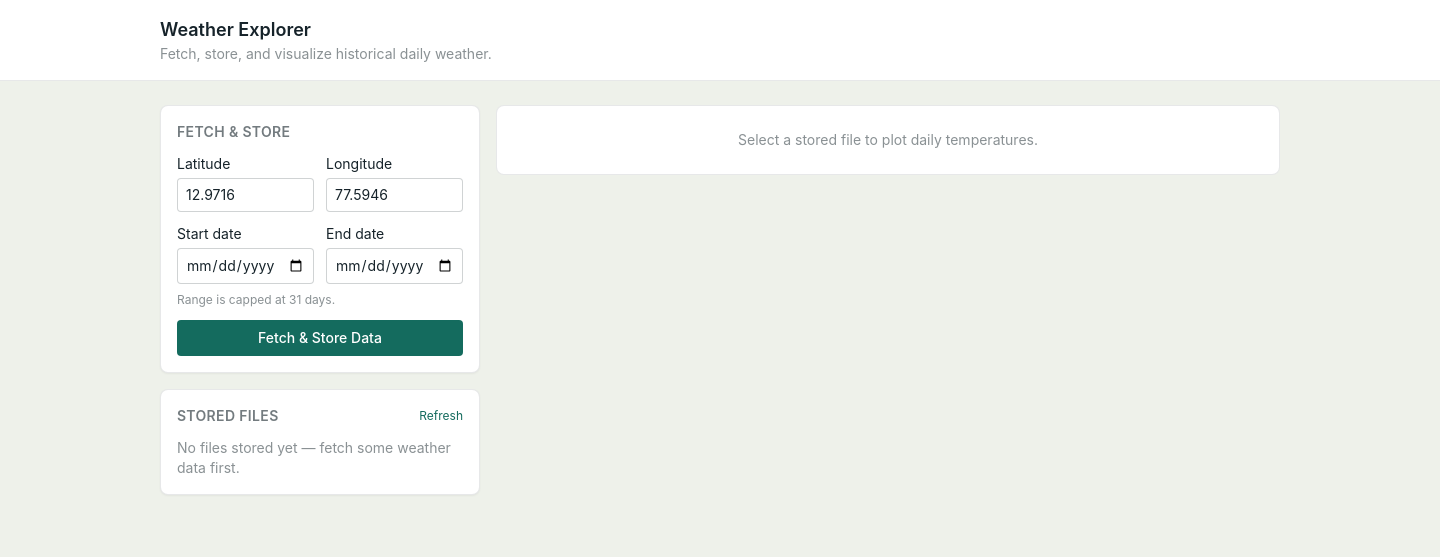
Test: App › shows an error message when storing fails
Expected: the text "No files stored yet — fetch some weather data first." is shown, [177,438,463,478]
In the date field labelled "Start date": (246, 266) [177,248,314,284], type "2024-01-01"
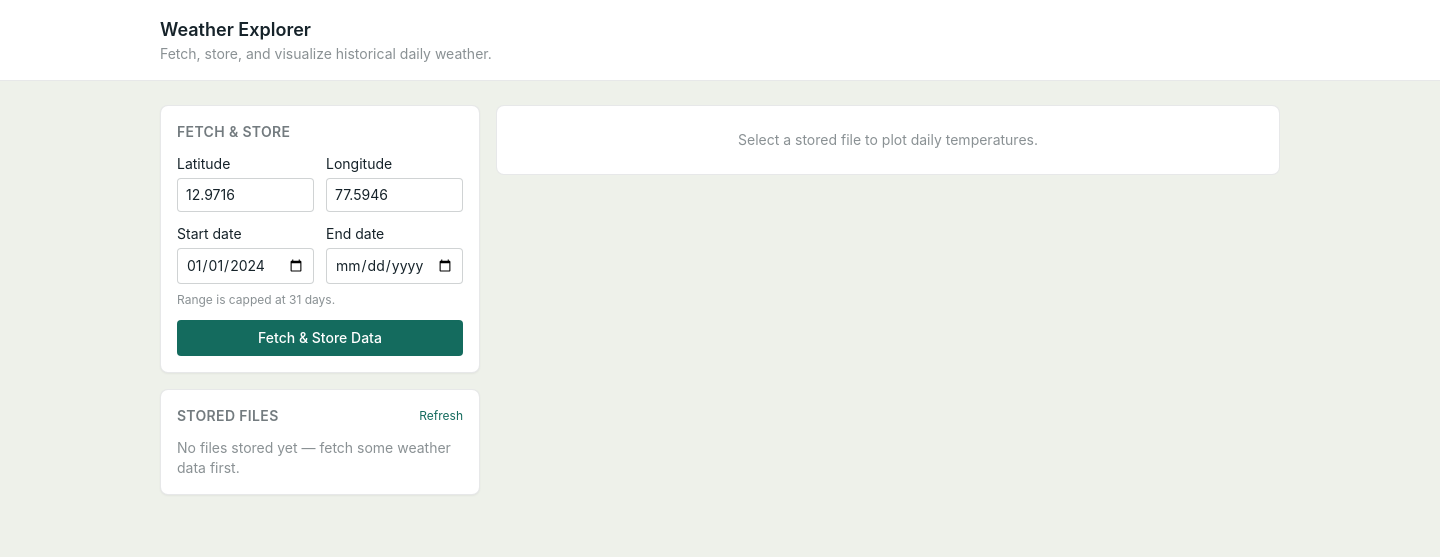
In the date field labelled "End date": (394, 266) [326,248,463,284], type "2024-01-05"
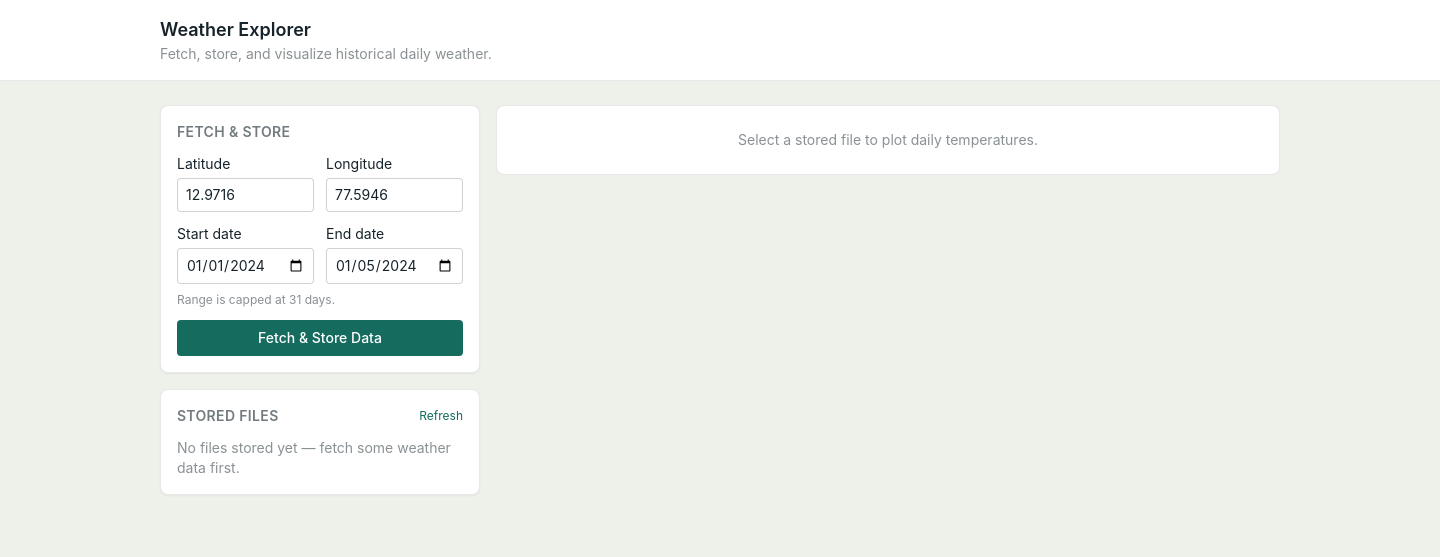
Click the button "Fetch & Store Data": (320, 338) [177,320,463,356]
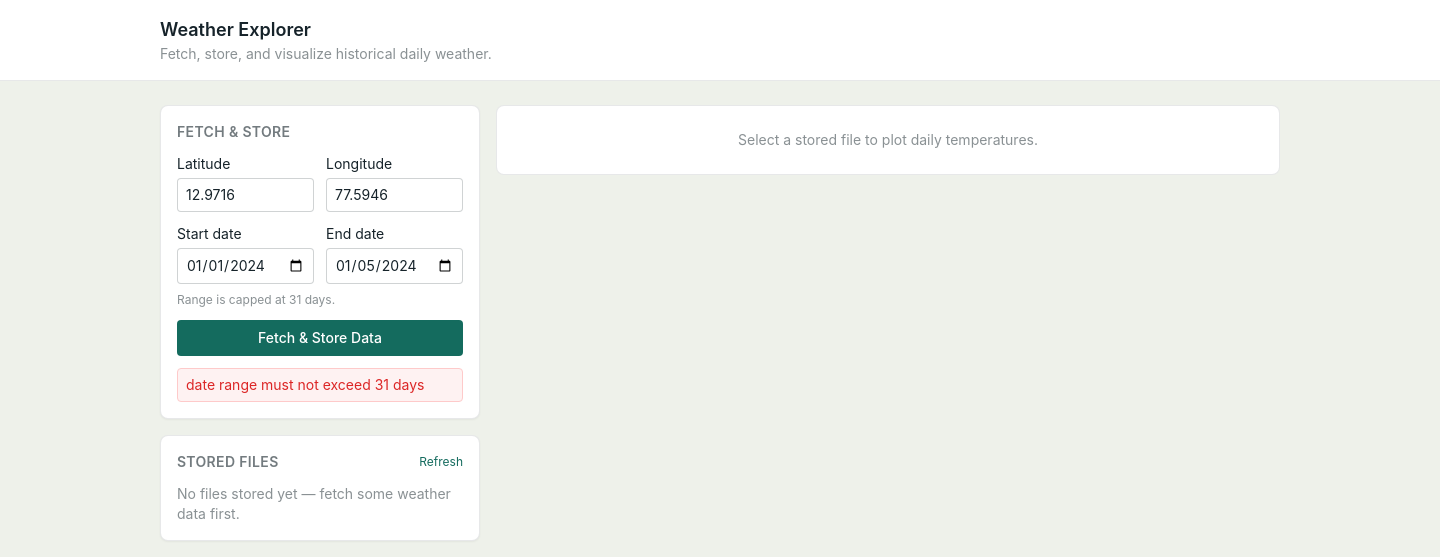
Expected: the text "date range must not exceed 31 days" is shown, [177,368,463,402]
